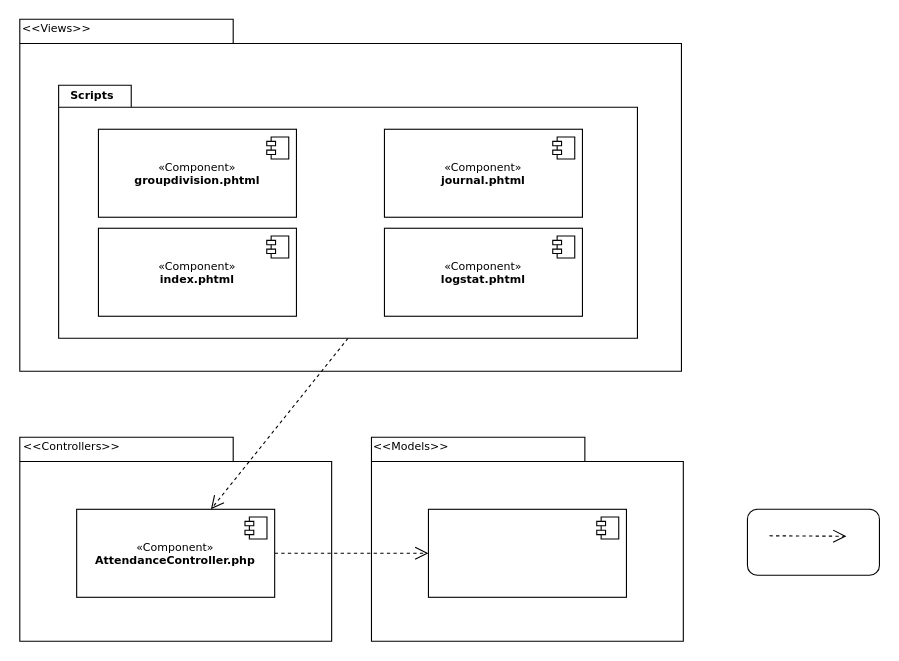
Some shapes in this 899 by 661 pixel diagram are drawn without their labels. The centre of each missing label's shape, as x and y in pixels:
"«Component» LiteAttendance.php" belongs at pixel 526 552.
"Управление" belongs at pixel 812 541.
